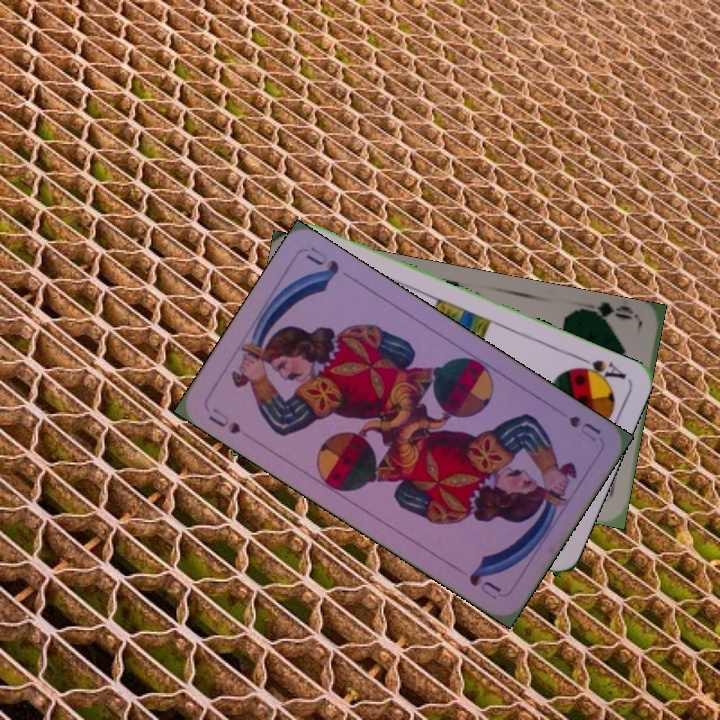GO: (579, 299, 638, 329)
SA: (569, 351, 629, 387)
SU: (204, 403, 243, 437), (565, 411, 604, 444)
